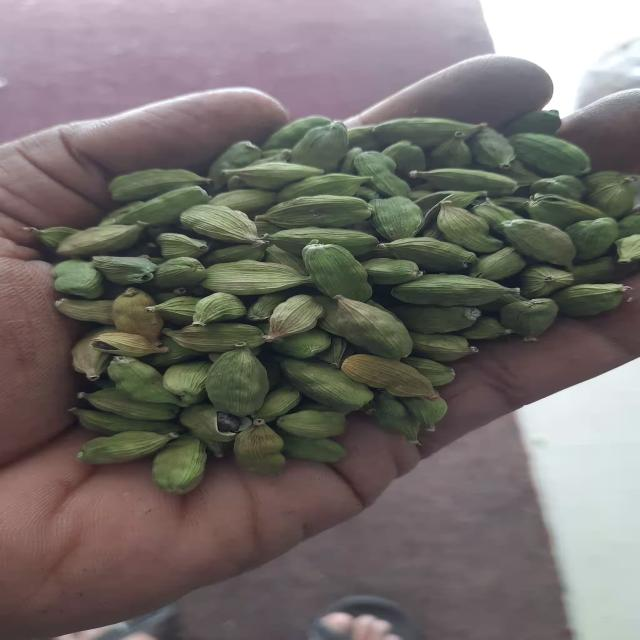Cardamom: (31, 118, 640, 510)
